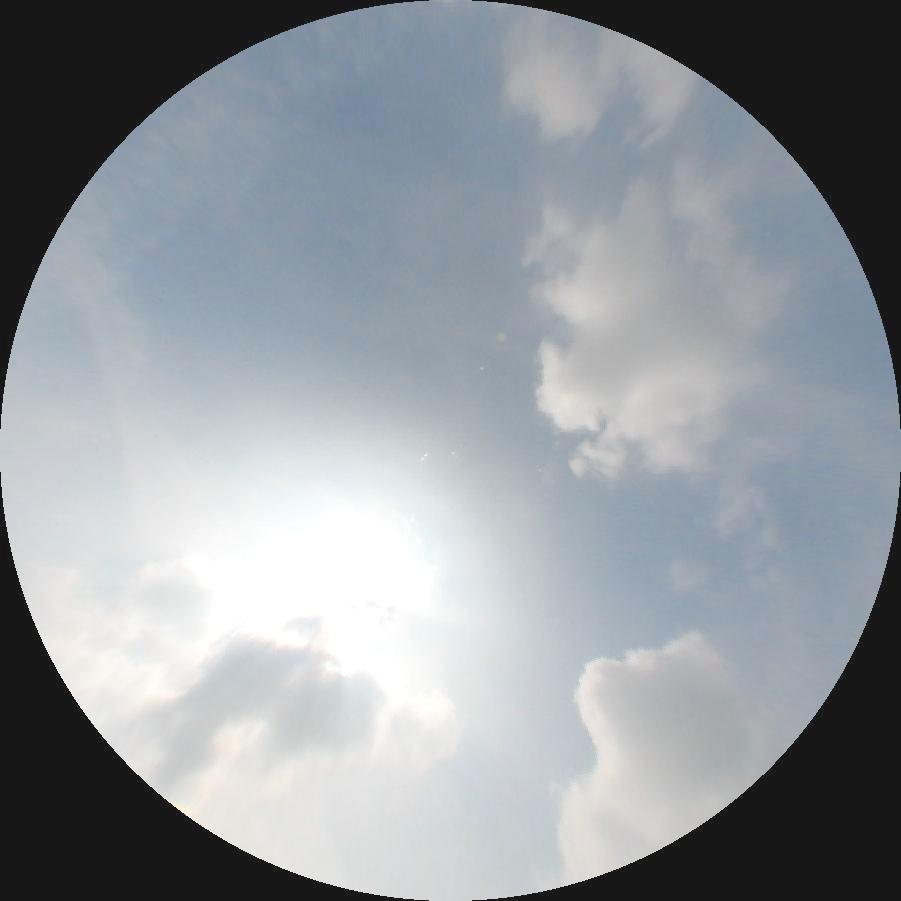sun: (261, 497, 440, 627)
